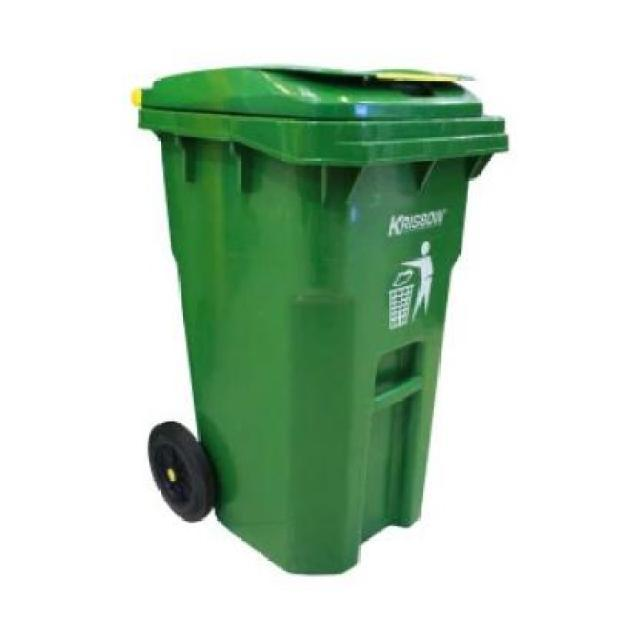garbage container: (120, 50, 517, 604)
